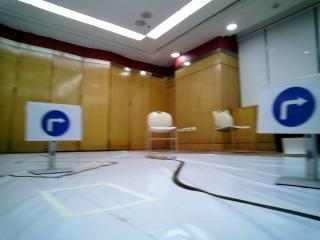right: (262, 86, 318, 127), (28, 104, 83, 141)
